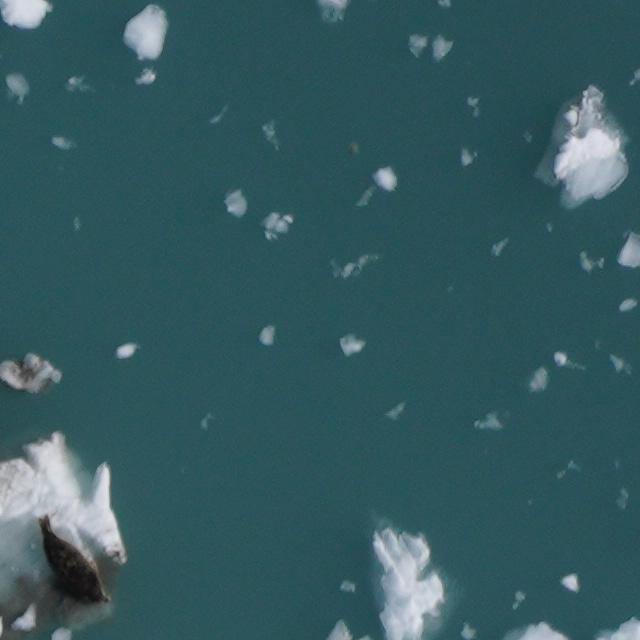seal: (15, 508, 119, 624)
